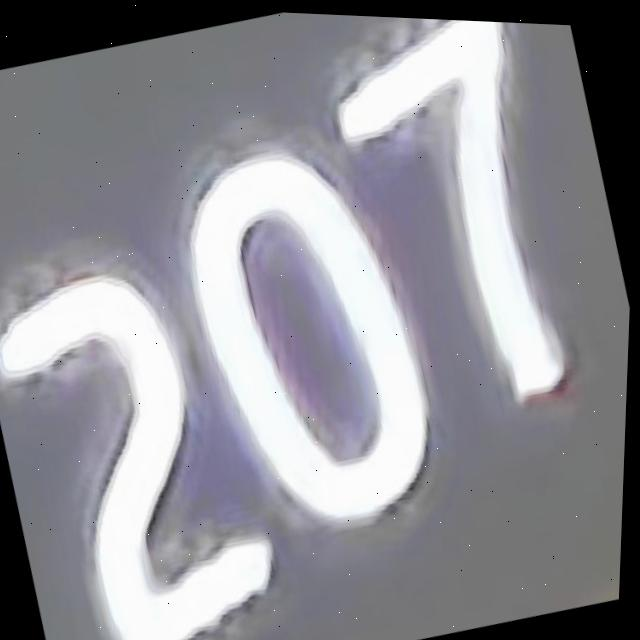character: (151, 115, 477, 564), (302, 14, 615, 448), (0, 238, 309, 640)
